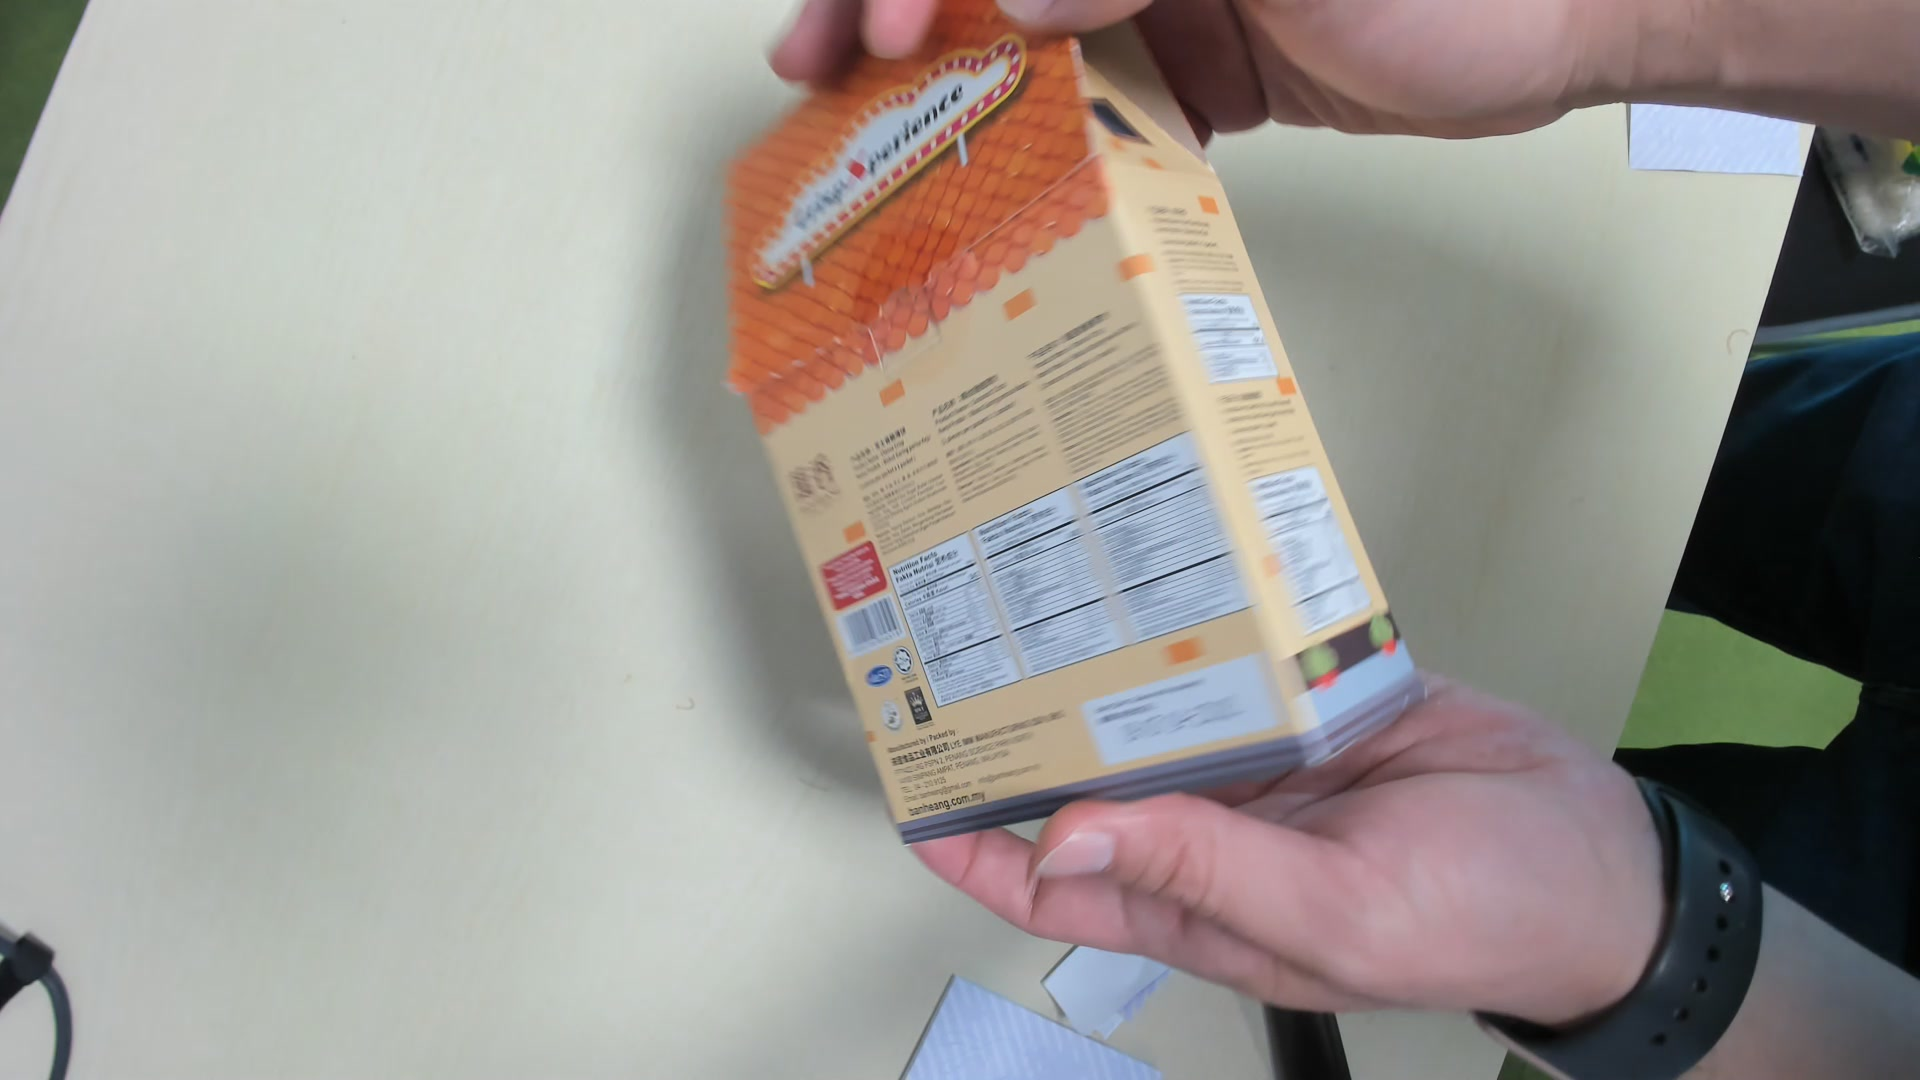SweetsChocolatesOthers_0-99g_Halal_Nonhealthy: (716, 18, 1429, 836)
